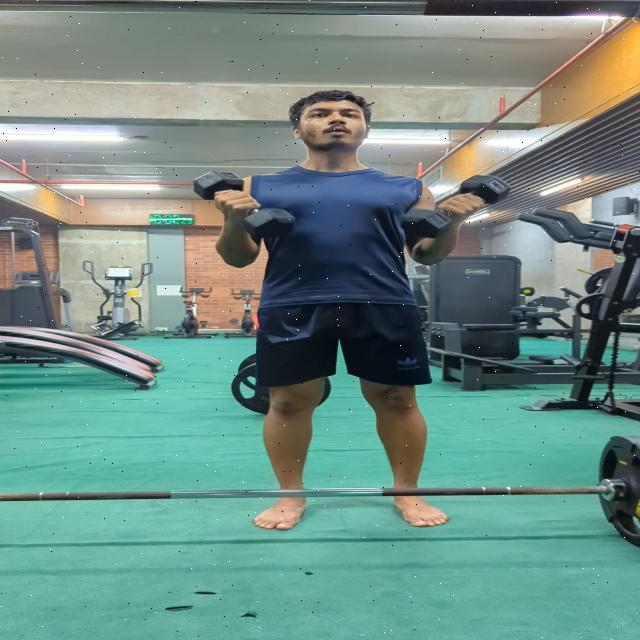Normal_DumbbellBicepCurls: (184, 87, 516, 534)
